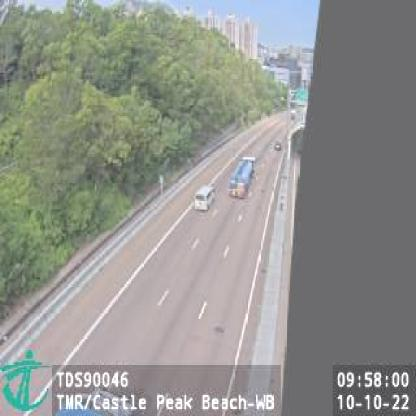Car: (192, 185, 216, 212)
Truck: (230, 154, 256, 201)
